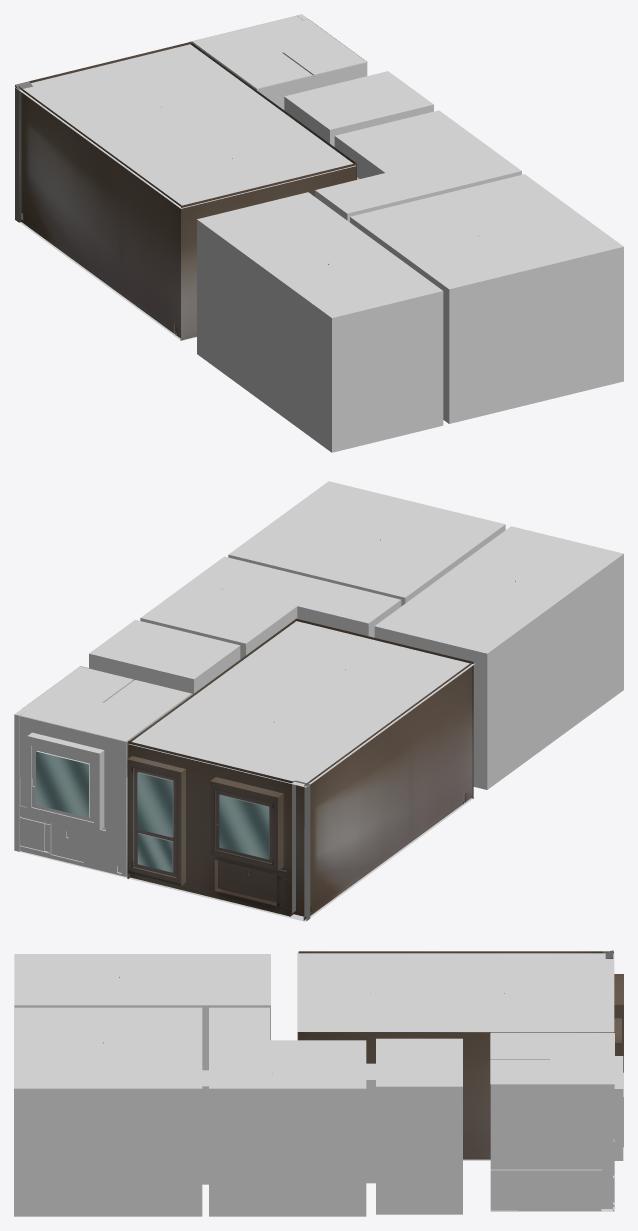
Rendered from 201125_detailmodel.fbx.
3 renders of one model, top to bottom at view 1: azimuth 30°, elevation 25°; view 2: azimuth 150°, elevation 25°; view 3: azimuth 270°, elevation 25°, orthographic. The views are drawn at different scales.
Visible parts, largest first — view 1: KiZi, Schla, WoZi.Decke, Wozi-Wandseite, Flur, KuDecke, Bad, Wozi-Wandkurz, KuALT, Wand-Fensterseite; view 2: KiZi, WoZi.Decke, Wozi-Wandseite, Wand-Fensterseite, Schla, Flur, KuFensterseite, KuDecke, Bad, WoZiFenster, KuFenster, KuWandseite (+2 smaller); view 3: Schla, Flur, WoZi.Decke, Bad, KuWandseite, KiZi, KuDecke, WoZi-Türseite, KuFensterseite, Wozi-Wandseite, Wand-Fensterseite.
Boxes of the visible parts, x1,y1,x2,y2 form: KiZi: (197, 192, 443, 452); Schla: (350, 174, 623, 423); WoZi.Decke: (14, 44, 355, 208); Wozi-Wandseite: (18, 86, 182, 340); Flur: (315, 110, 521, 222); KuDecke: (192, 16, 366, 89); Bad: (284, 71, 433, 179); Wozi-Wandkurz: (180, 163, 356, 340); KuALT: (257, 62, 367, 109); Wand-Fensterseite: (15, 42, 190, 222); KiZi: (374, 526, 623, 789); WoZi.Decke: (128, 621, 474, 787); Wozi-Wandseite: (303, 662, 472, 920); Wand-Fensterseite: (127, 741, 310, 920); Schla: (228, 481, 505, 606); Flur: (140, 556, 401, 659); KuFensterseite: (20, 715, 127, 877); KuDecke: (20, 666, 191, 741); Bad: (89, 619, 240, 694); WoZiFenster: (137, 773, 268, 872); KuFenster: (36, 751, 88, 817); KuWandseite: (14, 666, 79, 851); Schla: (14, 1007, 208, 1216); Flur: (209, 1007, 366, 1216); WoZi.Decke: (297, 952, 614, 1033); Bad: (366, 1038, 462, 1214); KuWandseite: (490, 1081, 614, 1211); KiZi: (14, 954, 270, 1070); KuDecke: (490, 1033, 614, 1084); WoZi-Türseite: (297, 1032, 614, 1160); KuFensterseite: (613, 1056, 623, 1211); Wozi-Wandseite: (298, 951, 613, 953); Wand-Fensterseite: (605, 950, 623, 1072).
Bounding box in the file's own units: 955 × 427 × 1804.
